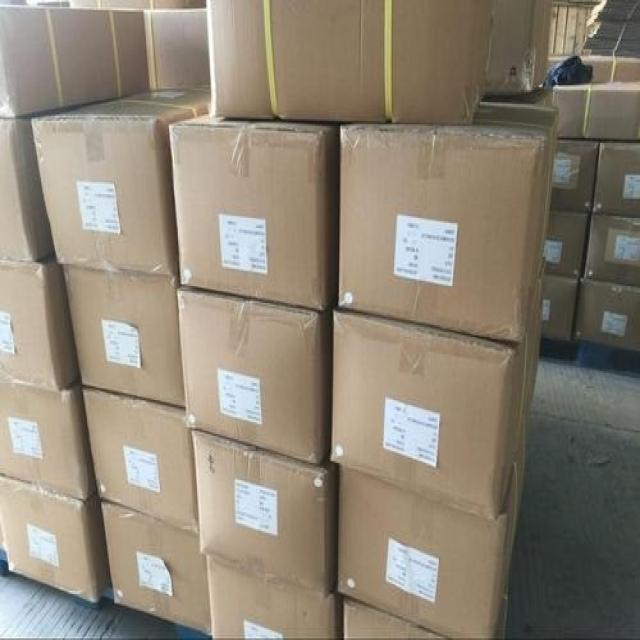Carton: (332, 89, 636, 638), (23, 119, 317, 536), (101, 434, 323, 630), (209, 0, 488, 119), (0, 257, 92, 599), (169, 124, 323, 305), (0, 5, 148, 117), (205, 557, 333, 638)
